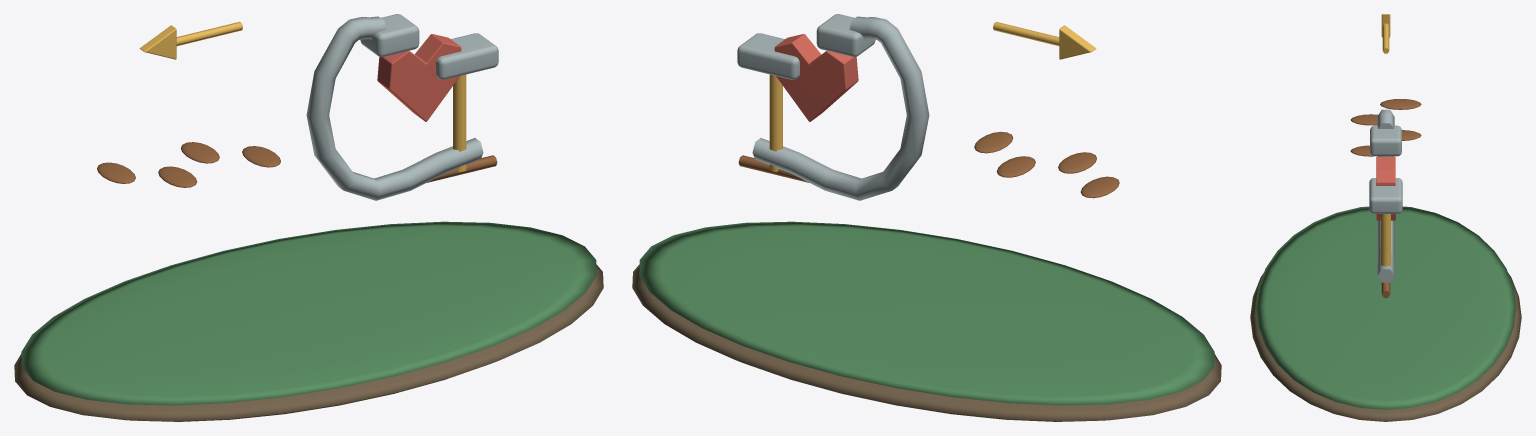
The model's file is complete-first-very-tight-clamp.glb.
3 renders of one model, left to right at view 1: azimuth 30°, elevation 25°; view 2: azimuth 150°, elevation 25°; view 3: azimuth 270°, elevation 25°, orthographic. The views are drawn at different scales.
Visible parts, largest first — view 1: complete-first-very-tight-clamp_surface_01, complete-first-very-tight-clamp_surface_03, complete-first-very-tight-clamp_surface_00, complete-first-very-tight-clamp_surface_05, complete-first-very-tight-clamp_surface_02, complete-first-very-tight-clamp_surface_04; view 2: complete-first-very-tight-clamp_surface_01, complete-first-very-tight-clamp_surface_03, complete-first-very-tight-clamp_surface_00, complete-first-very-tight-clamp_surface_05, complete-first-very-tight-clamp_surface_02, complete-first-very-tight-clamp_surface_04; view 3: complete-first-very-tight-clamp_surface_01, complete-first-very-tight-clamp_surface_00, complete-first-very-tight-clamp_surface_03, complete-first-very-tight-clamp_surface_02, complete-first-very-tight-clamp_surface_04, complete-first-very-tight-clamp_surface_05.
Boxes of the visible parts, bbox=[...] form: complete-first-very-tight-clamp_surface_01: bbox=[21, 221, 596, 405]; complete-first-very-tight-clamp_surface_03: bbox=[306, 14, 498, 200]; complete-first-very-tight-clamp_surface_00: bbox=[14, 264, 603, 421]; complete-first-very-tight-clamp_surface_05: bbox=[377, 34, 461, 121]; complete-first-very-tight-clamp_surface_02: bbox=[97, 142, 497, 187]; complete-first-very-tight-clamp_surface_04: bbox=[139, 22, 466, 172]; complete-first-very-tight-clamp_surface_01: bbox=[639, 221, 1214, 405]; complete-first-very-tight-clamp_surface_03: bbox=[737, 14, 929, 200]; complete-first-very-tight-clamp_surface_00: bbox=[632, 264, 1221, 421]; complete-first-very-tight-clamp_surface_05: bbox=[774, 34, 858, 121]; complete-first-very-tight-clamp_surface_02: bbox=[738, 131, 1119, 198]; complete-first-very-tight-clamp_surface_04: bbox=[769, 22, 1096, 172]; complete-first-very-tight-clamp_surface_01: bbox=[1255, 206, 1516, 409]; complete-first-very-tight-clamp_surface_00: bbox=[1250, 273, 1521, 421]; complete-first-very-tight-clamp_surface_03: bbox=[1369, 109, 1402, 282]; complete-first-very-tight-clamp_surface_02: bbox=[1350, 99, 1421, 297]; complete-first-very-tight-clamp_surface_04: bbox=[1381, 14, 1390, 282]; complete-first-very-tight-clamp_surface_05: bbox=[1376, 156, 1395, 220].
Bounding box in the file's own units: 4.56 × 2.7 × 2.5.
